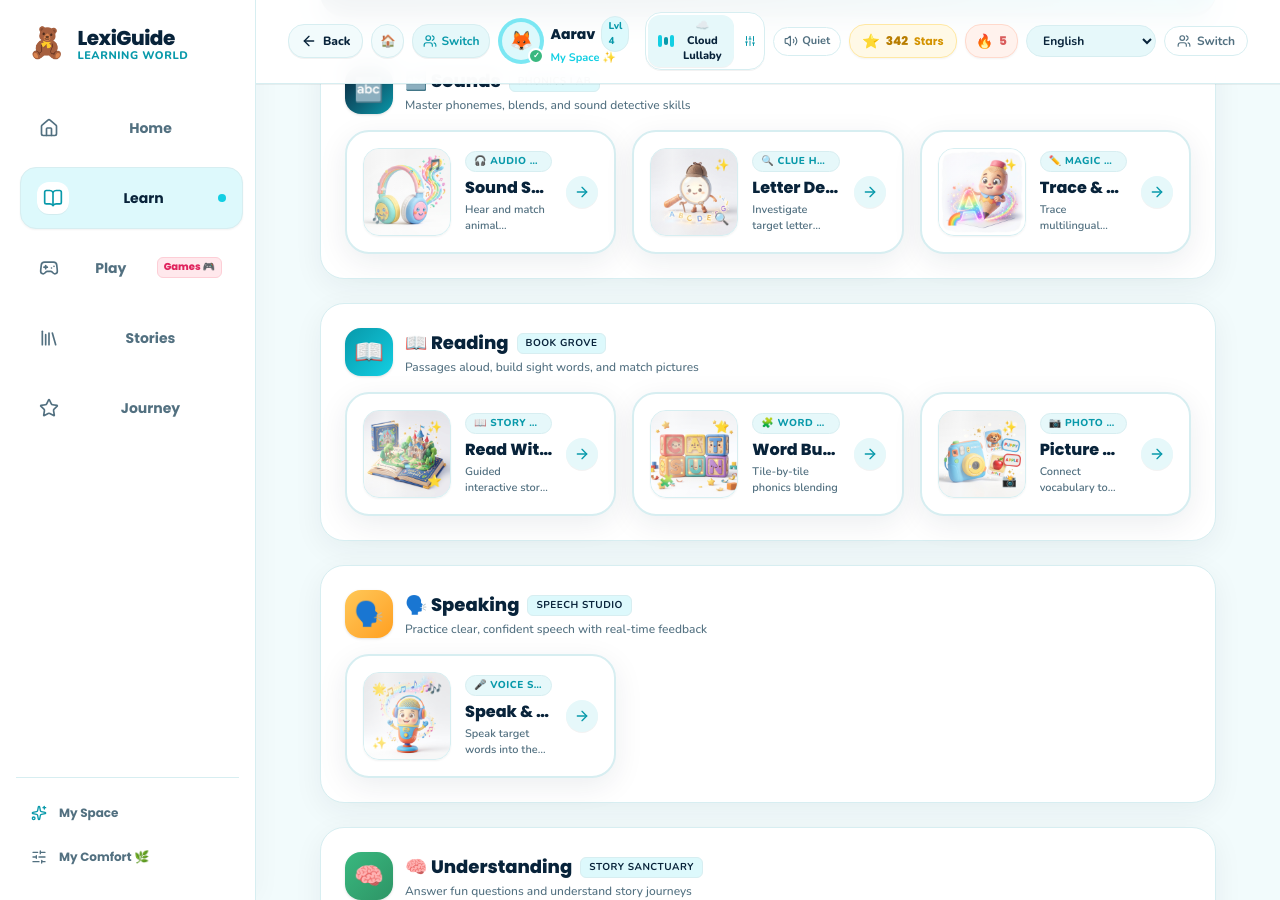
Test: Phase 2 additions › Learn Home category tile navigates to the right activity
(page scrolled)
Click the text "Word Builder": (796, 450) [752,438,840,462]
(page scrolled)
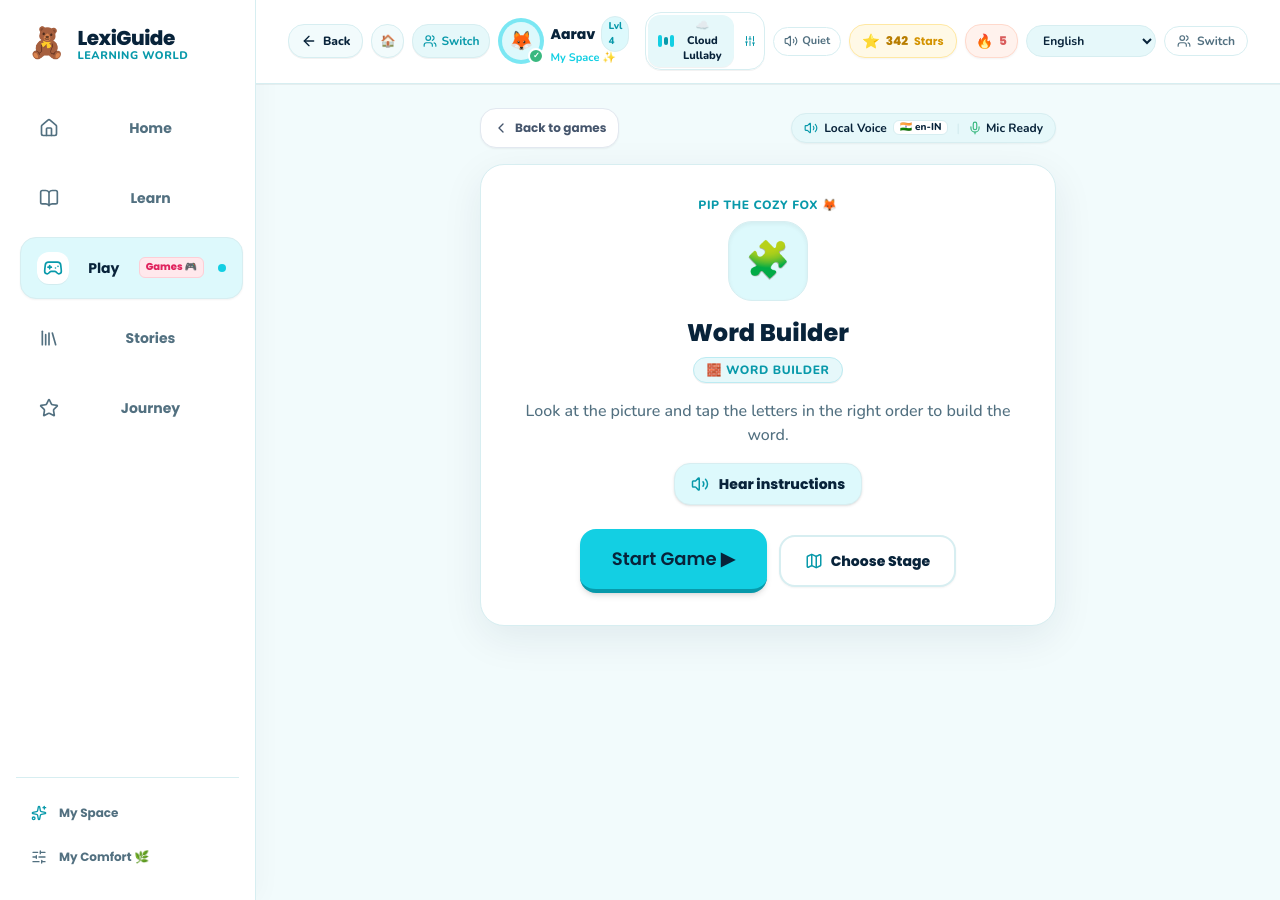
Now the button "Start Game ▶" is shown, box [580,528,767,592]
